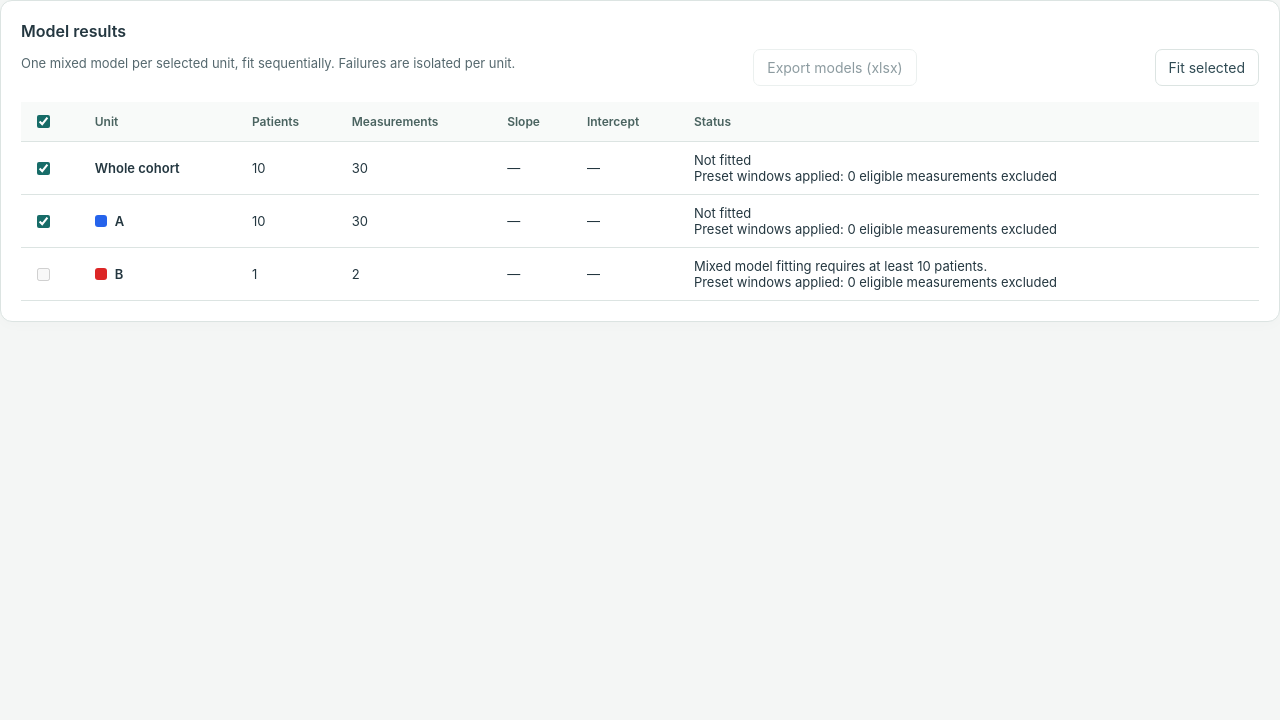
Test case: CohortModelTable › expands technical details for a fitted unit
The image size is (1280, 720).
Step 1. Click the button "Fit selected" → (1207,68), box 1154,49 -> 1259,86
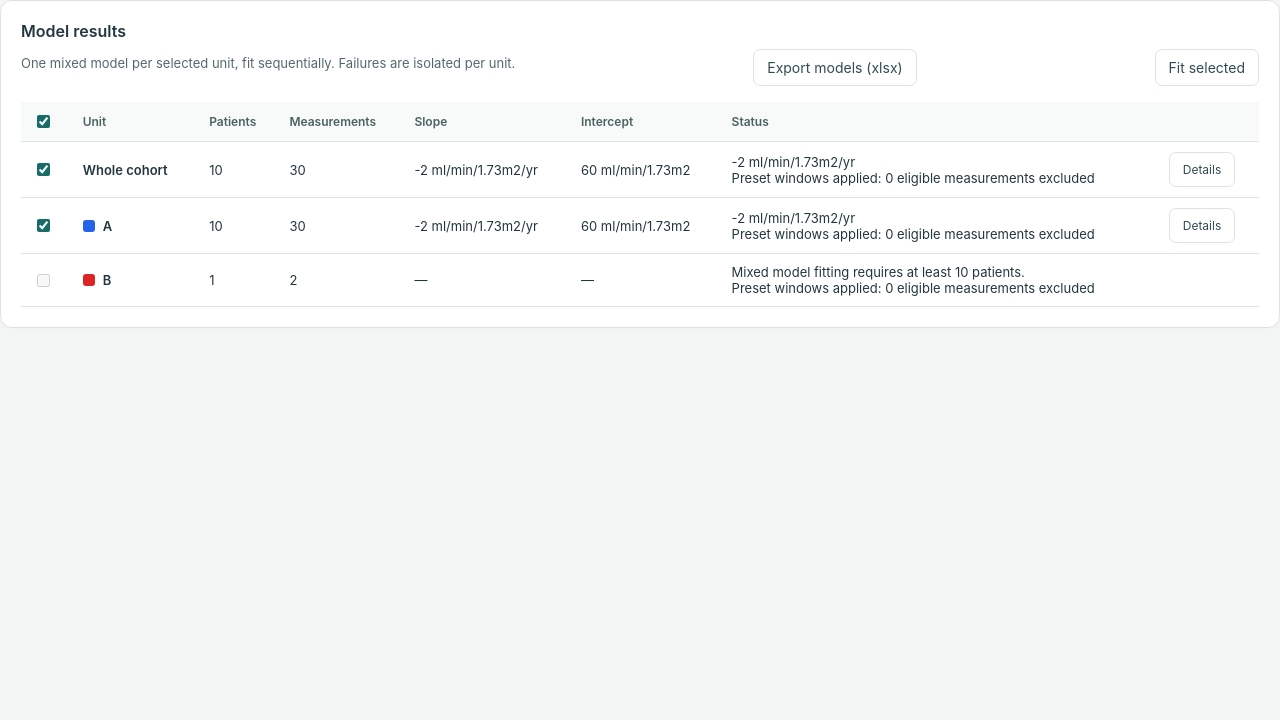
Now the cell with test id "cohort-model-status" in the row of "Whole cohort" shows "/yr", box 720,142 -> 1157,198
Step 2. Click the button "Details" in the row of "Whole cohort" → (1202,170), box 1169,152 -> 1235,187
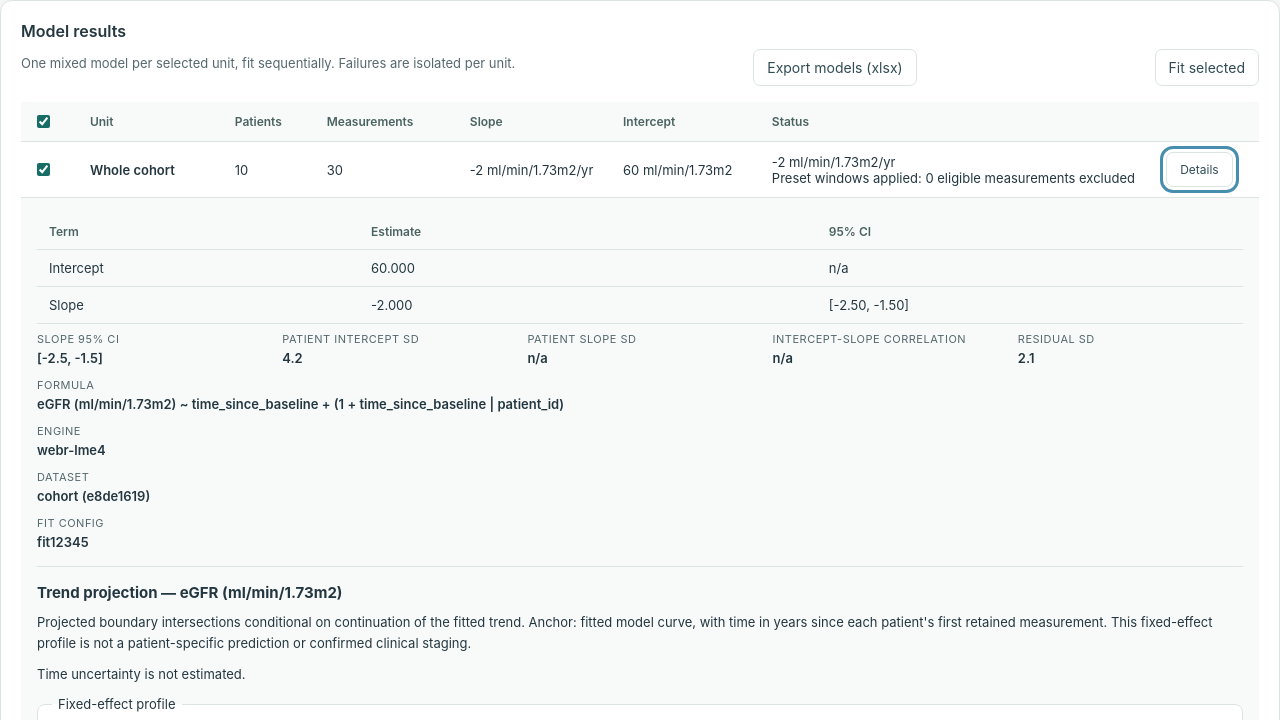
Now the text "Patient intercept SD" is shown, box 282,332 -> 419,346
Now the text "4.2" is shown, box 282,350 -> 303,366
